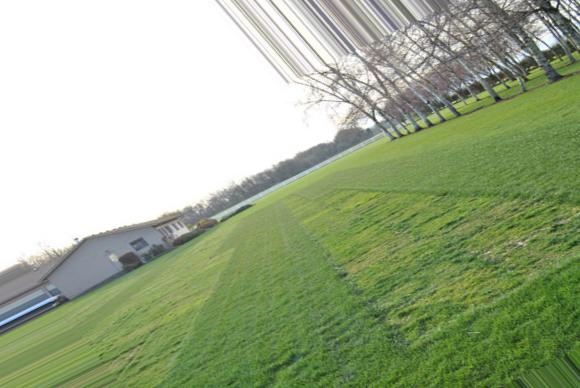patch: (353, 257, 373, 268)
